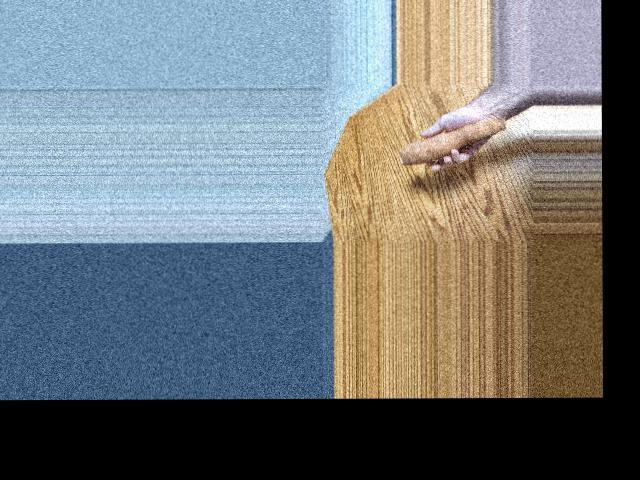sweet_potato: (400, 115, 503, 168)
